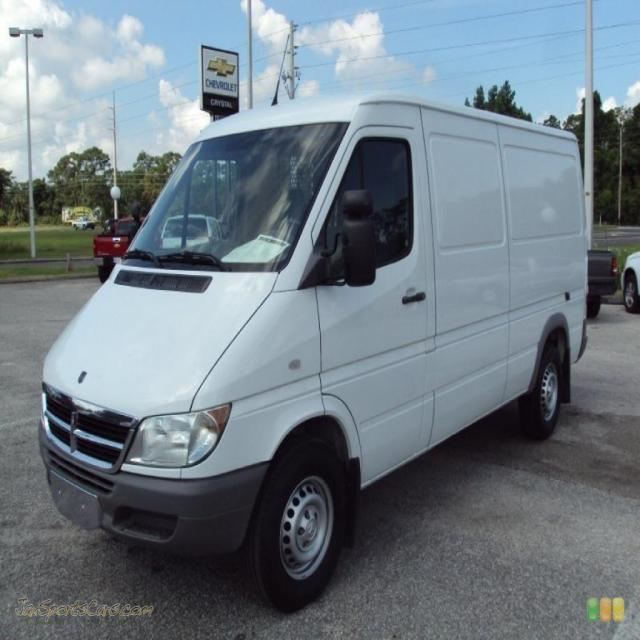Truck: (31, 69, 593, 600)
